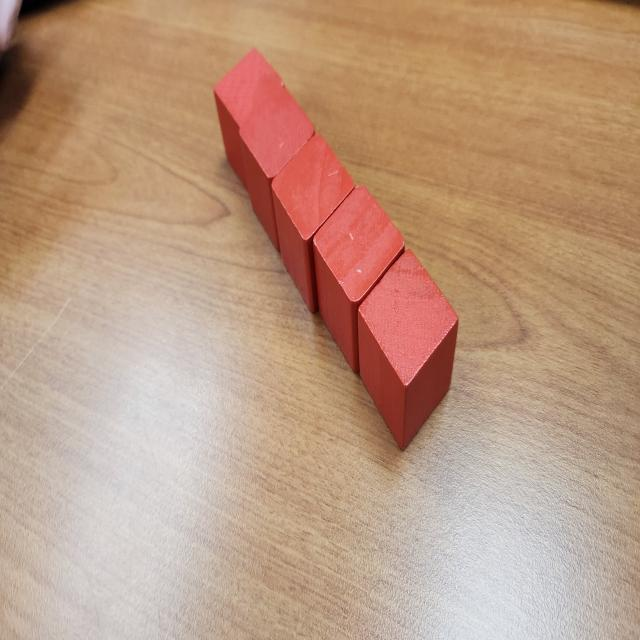red: (357, 248, 458, 450), (312, 182, 406, 374), (272, 133, 357, 313), (238, 84, 314, 255), (213, 48, 287, 194)
